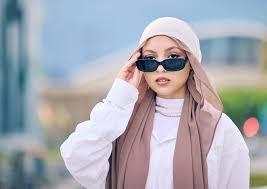cap: (138, 12, 206, 58)
sunglasses: (135, 57, 189, 77)
